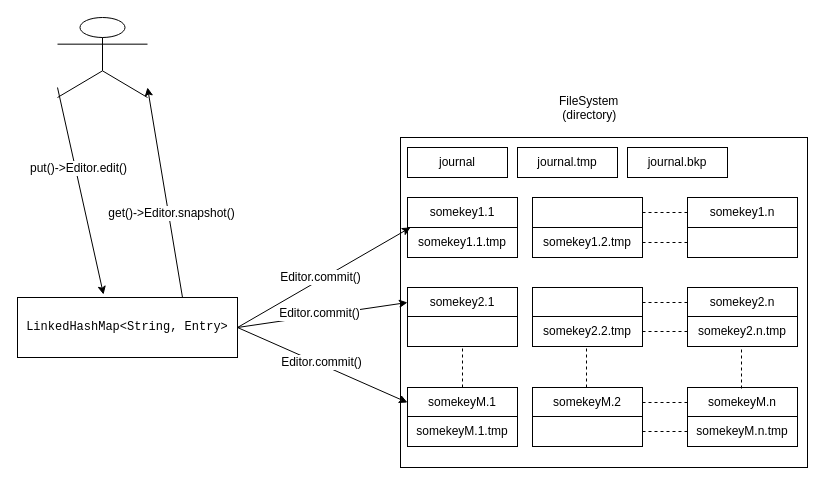
Some shapes in this 825 by 485 pixel diagram are drawn without their labels. The shapes that lost their labels are listed below. From the top down, each one's box as (x1, y1, x2, y2) in pixels, then its label:
(56, 16, 148, 98): Actor
(532, 196, 642, 228): somekey1.2
(686, 226, 798, 258): somekey1.n.tmp
(532, 286, 642, 318): somekey2.2
(406, 316, 518, 346): somekey2.1.tmp
(532, 416, 642, 446): somekeyM.2.tmp
